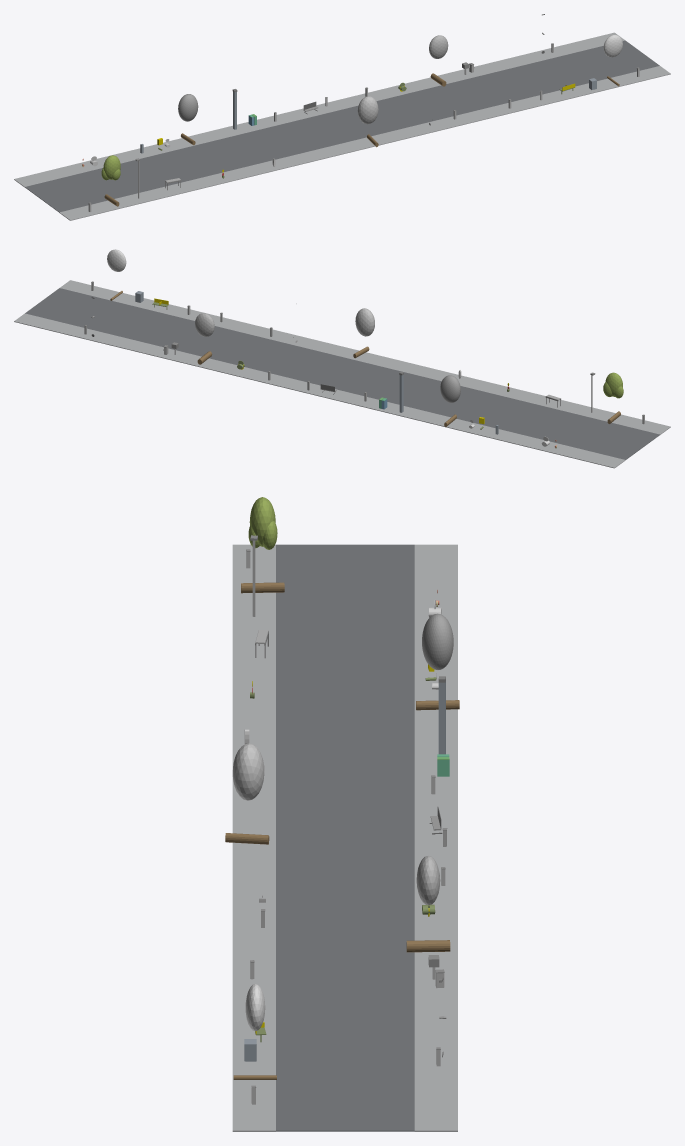
The picture shows the model from 3 angles, top to bottom: view 1: azimuth 30°, elevation 25°; view 2: azimuth 150°, elevation 25°; view 3: azimuth 270°, elevation 25°; orthographic projection. The views are drawn at different scales.
Visible parts, largest first — view 1: road_slab, sidewalk_left, sidewalk_right, inst_0014, inst_0013, inst_0012, inst_0015, inst_0016; view 2: road_slab, sidewalk_right, sidewalk_left, inst_0013, inst_0014, inst_0012, inst_0015, inst_0016; view 3: road_slab, sidewalk_left, sidewalk_right, inst_0014, inst_0013, inst_0012, inst_0015, inst_0016.
Boxes of the visible parts, x1,y1,x2,y2 form: road_slab: (25, 40, 659, 212); sidewalk_left: (59, 66, 670, 220); sidewalk_right: (14, 32, 624, 187); inst_0014: (357, 96, 378, 147); inst_0013: (178, 94, 198, 145); inst_0012: (101, 155, 120, 206); inst_0015: (429, 35, 448, 86); inst_0016: (603, 35, 622, 86); road_slab: (25, 288, 659, 460); sidewalk_right: (14, 313, 625, 468); sidewalk_left: (60, 280, 670, 434); inst_0013: (440, 375, 460, 426); inst_0014: (353, 308, 374, 358); inst_0012: (603, 372, 623, 423); inst_0015: (195, 313, 214, 364); inst_0016: (107, 249, 126, 300); road_slab: (276, 544, 414, 1131); sidewalk_left: (232, 544, 275, 1131); sidewalk_right: (414, 544, 457, 1131); inst_0014: (225, 743, 269, 844); inst_0013: (416, 613, 459, 710); inst_0012: (241, 497, 284, 593); inst_0015: (406, 856, 450, 952); inst_0016: (233, 984, 276, 1079).
Bounding box in the file's own units: 80 × 6.08 × 13.51.
